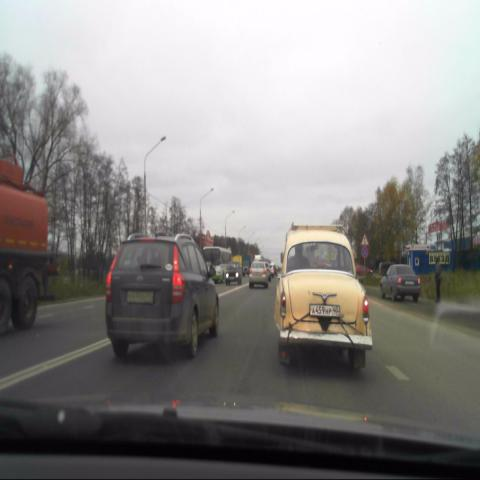1_8: (360, 233, 368, 245)
3_27: (360, 246, 369, 259)
